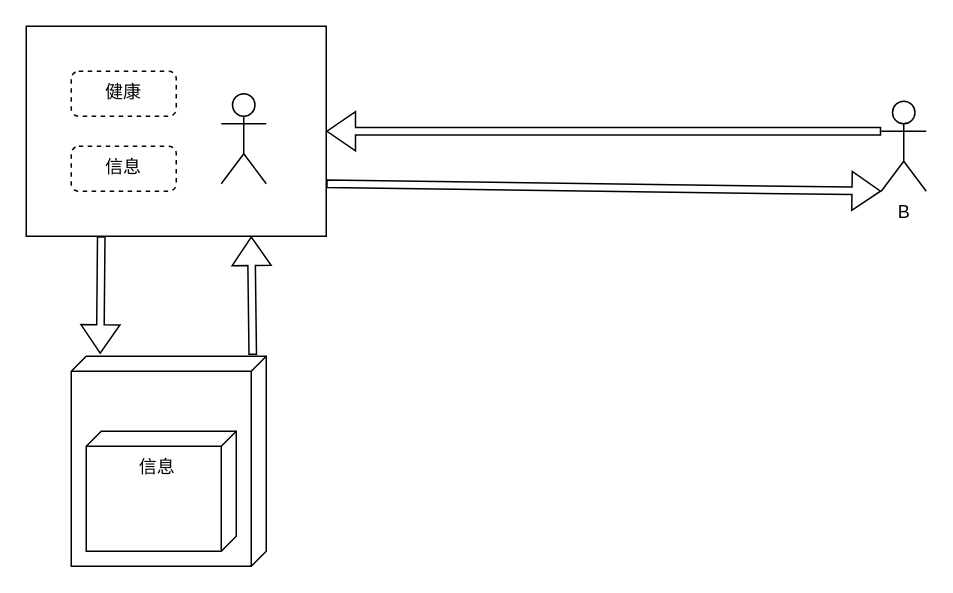
This 953x593 diagram has some shape labels left out. Each missing label, with the centre of its shape:
"主体A" goes at (243,138).
"设备" goes at (168,460).
